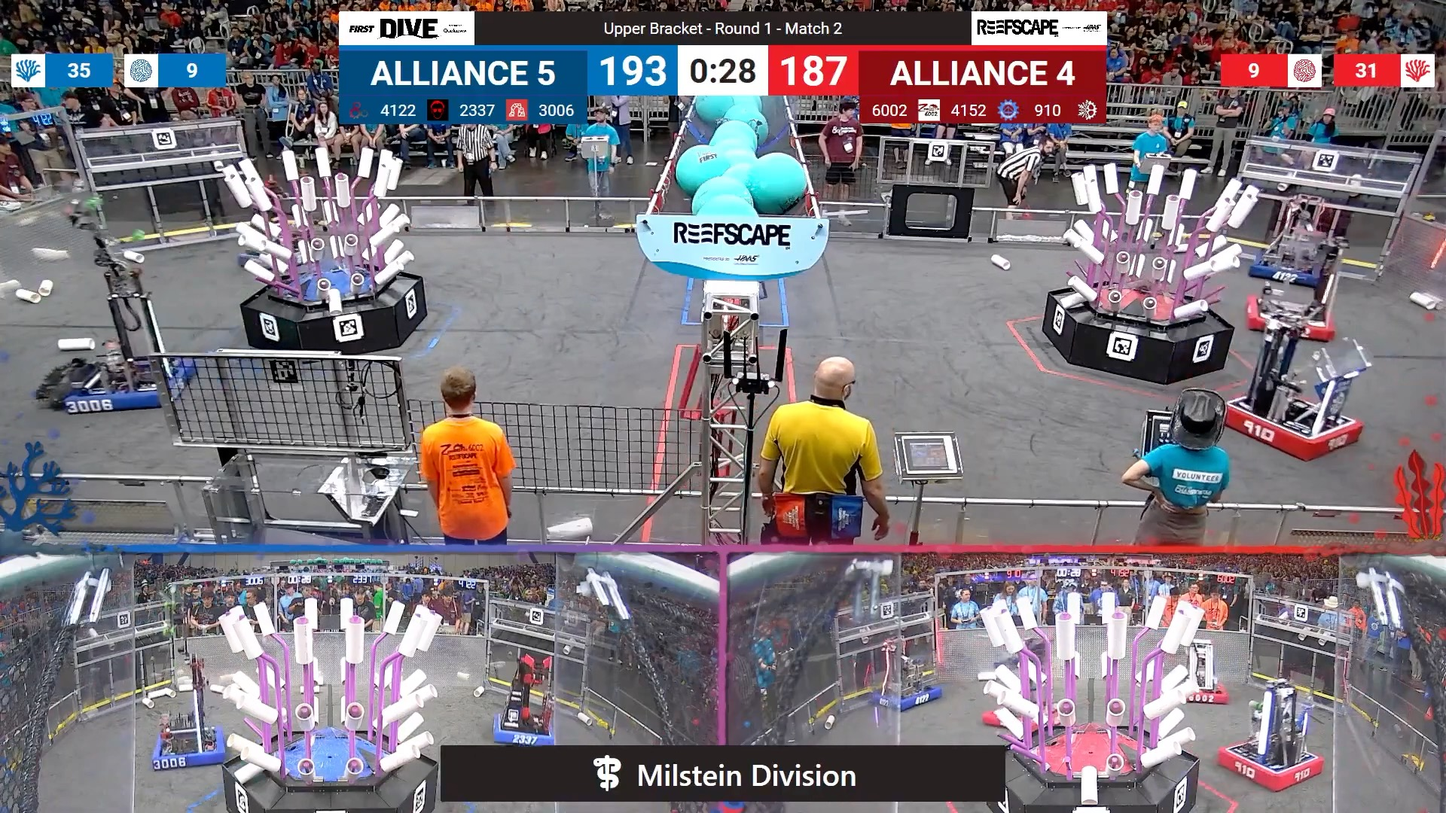bumpers: (41, 350, 198, 422), (1212, 395, 1368, 463), (1210, 740, 1332, 791), (1235, 288, 1344, 341), (146, 720, 236, 778), (484, 703, 564, 749), (1238, 258, 1341, 288), (867, 683, 947, 714), (978, 699, 1046, 734), (1169, 677, 1233, 707)
